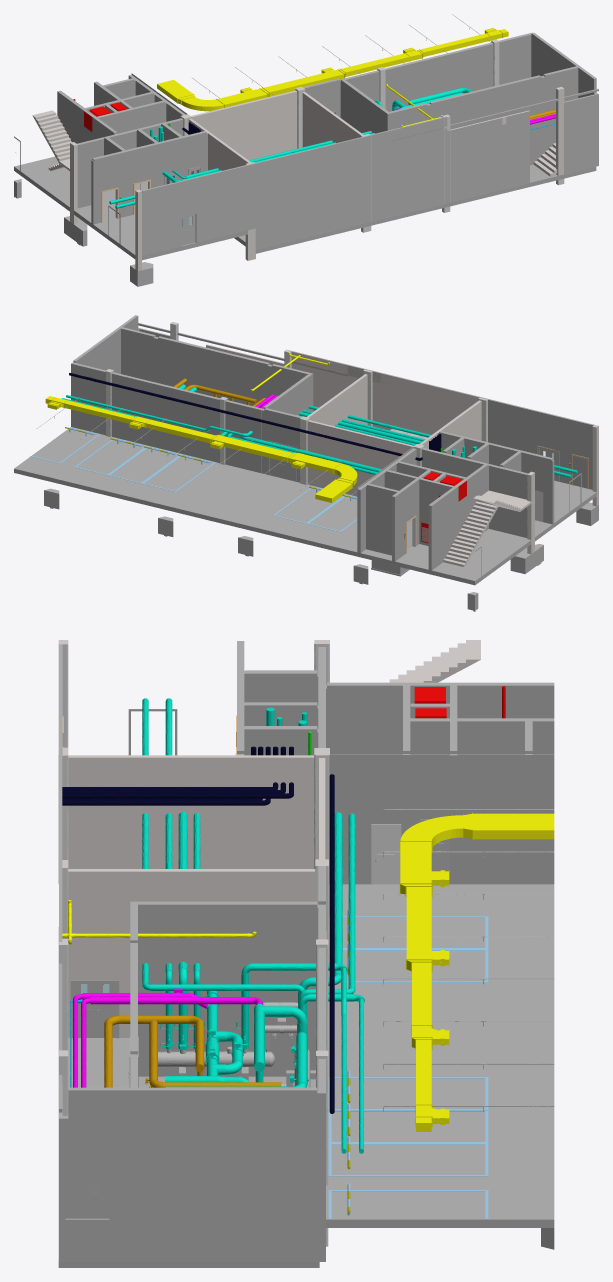
Rendered from dracoRoom.gltf.
3 views of the same model, one above another, from view 1: azimuth 30°, elevation 25°; view 2: azimuth 150°, elevation 25°; view 3: azimuth 270°, elevation 25° (orthographic). The views are drawn at different scales.
Visible parts, largest first — view 1: 墙内墙_砌体墙_200mm (×15), 墙剪力墙_混凝土_200 (×5), 楼板楼面_C30混凝土_300 (×2), 风管镀锌钢板_法兰 (×5), 楼梯楼梯 (×2), 结构基础CT2 (×2), 结构柱450x600x20, 结构柱550X500X20, 楼板楼面_C30混凝土_130, 结构柱600x600x20, 门DTM1125, 风管管件1.5 W (+3 smaller); view 2: 墙内墙_砌体墙_200mm (×15), 楼板楼面_C30混凝土_300, 墙剪力墙_混凝土_200 (×5), 风管镀锌钢板_法兰 (×5), 楼梯楼梯, 管道隔热层泡沫橡塑制品(PVC/NBR) (×3), 管道镀锌钢管, 结构基础CT2 (×2), 结构柱550X500X20, 楼板楼面_C30混凝土_130, 门FM甲2024, 结构柱600x600x20 (+2 smaller); view 3: 墙内墙_砌体墙_200mm (×12), 楼板楼面_C30混凝土_300 (×2), 墙剪力墙_混凝土_200 (×2), 风管镀锌钢板_法兰 (×5), 管道隔热层泡沫橡塑制品(PVC/NBR) (×6), 管道镀锌钢管 (×4), 门FM乙1421, 常规模型地下室停车位5000x2400 (×2), 楼梯楼梯, 门FM甲1520, 门M0921, 机械设备筒体直径 500 mm (+5 smaller).
Part boxes in pixels (box(x1,y1,x2,y2)): 墙内墙_砌体墙_200mm (×15): box(57, 32, 598, 255); 墙剪力墙_混凝土_200 (×5): box(188, 90, 529, 249); 楼板楼面_C30混凝土_300 (×2): box(14, 156, 596, 260); 风管镀锌钢板_法兰 (×5): box(157, 33, 490, 107); 楼梯楼梯 (×2): box(32, 110, 557, 176); 结构基础CT2 (×2): box(64, 216, 153, 286); 结构柱450x600x20: box(556, 86, 564, 185); 结构柱550X500X20: box(70, 142, 77, 224); 楼板楼面_C30混凝土_130: box(388, 89, 598, 142); 结构柱600x600x20: box(135, 189, 141, 271); 门DTM1125: box(101, 187, 121, 222); 风管管件1.5 W: box(181, 96, 224, 111); 墙内墙_砌体墙_200mm (×15): box(71, 315, 594, 570); 楼板楼面_C30混凝土_300: box(14, 427, 596, 585); 墙剪力墙_混凝土_200 (×5): box(206, 344, 481, 496); 风管镀锌钢板_法兰 (×5): box(64, 400, 352, 502); 楼梯楼梯: box(443, 490, 532, 566); 管道隔热层泡沫橡塑制品(PVC/NBR) (×3): box(244, 405, 577, 473); 管道镀锌钢管: box(69, 373, 417, 459); 结构基础CT2 (×2): box(510, 502, 598, 573); 结构柱550X500X20: box(527, 471, 534, 554); 楼板楼面_C30混凝土_130: box(138, 323, 347, 376); 门FM甲2024: box(268, 440, 296, 481); 结构柱600x600x20: box(592, 425, 598, 506); 墙内墙_砌体墙_200mm (×12): box(62, 641, 554, 1261); 楼板楼面_C30混凝土_300 (×2): box(58, 884, 554, 1267); 墙剪力墙_混凝土_200 (×2): box(68, 755, 316, 1037); 风管镀锌钢板_法兰 (×5): box(400, 813, 554, 1104); 管道隔热层泡沫橡塑制品(PVC/NBR) (×6): box(90, 698, 355, 1004); 管道镀锌钢管 (×4): box(62, 774, 334, 1113); 门FM乙1421: box(65, 1160, 109, 1218); 常规模型地下室停车位5000x2400 (×2): box(328, 1103, 488, 1176); 楼梯楼梯: box(389, 640, 480, 682); 门FM甲1520: box(70, 980, 119, 1038); 门M0921: box(371, 824, 401, 884); 机械设备筒体直径 500 mm: box(158, 1046, 274, 1080).
Size of the model in its own units: 112 by 22.05 by 51.89.
